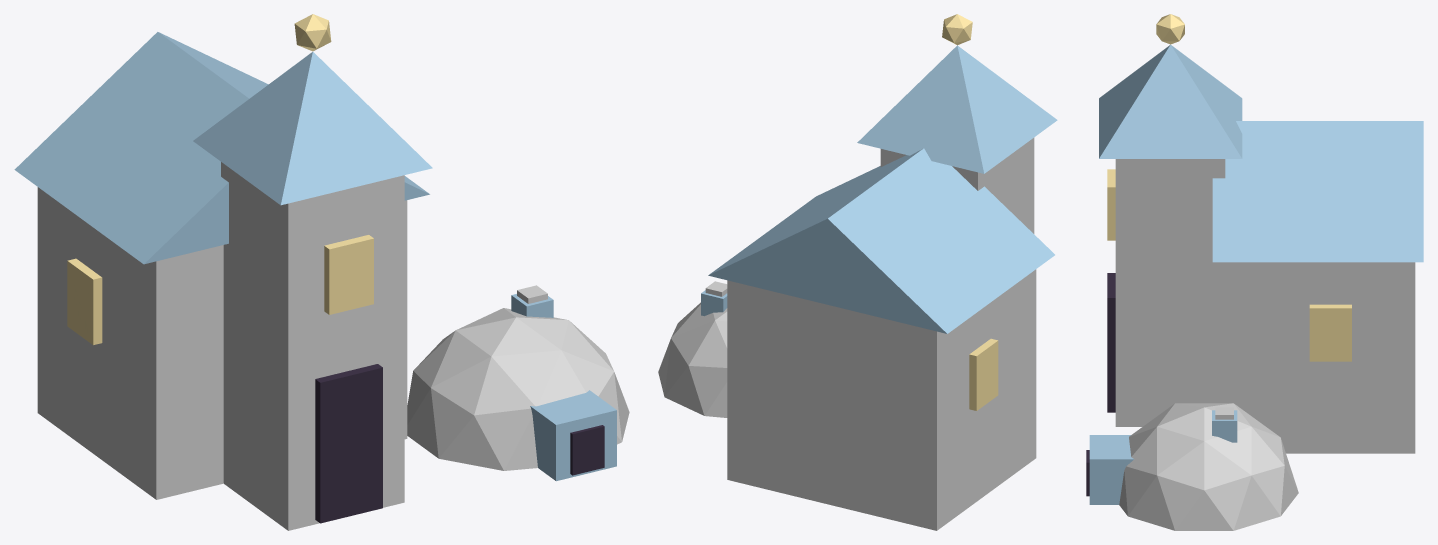
File: ice-landmark-s2c.glb
The picture shows the model from 3 angles, left to right: view 1: azimuth 30°, elevation 25°; view 2: azimuth 150°, elevation 25°; view 3: azimuth 270°, elevation 25°; orthographic projection. The views are drawn at different scales.
Visible parts, largest first — view 1: ice-landmark-s2c; view 2: ice-landmark-s2c; view 3: ice-landmark-s2c.
Boxes of the visible parts, bbox=[...] form: ice-landmark-s2c: bbox=[14, 14, 629, 530]; ice-landmark-s2c: bbox=[658, 14, 1057, 530]; ice-landmark-s2c: bbox=[1086, 14, 1423, 530].
Size of the model in its own units: 1.03 by 1.02 by 0.8.
